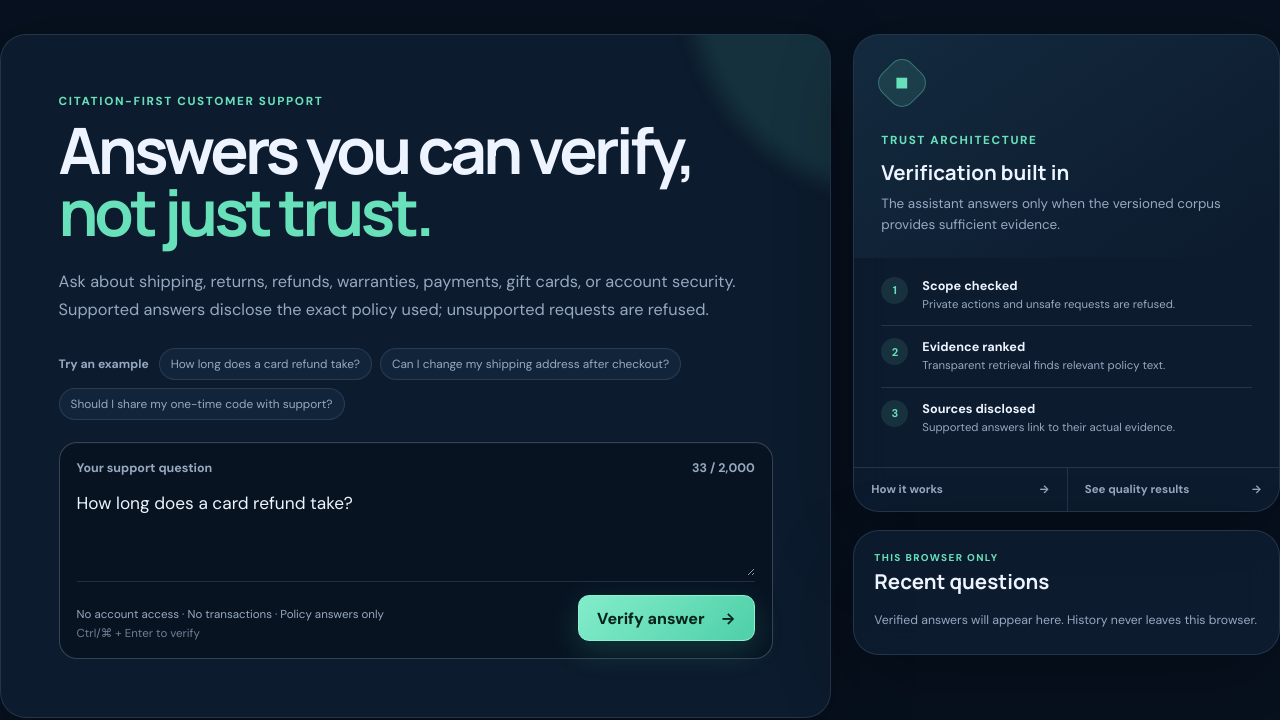
Test: AssistantPage › submits through the stream and preserves the browser evidence hooks
Click the button "Verify answer →": [666, 618] box x1=578 y1=596 x2=755 y2=642
(page scrolled)
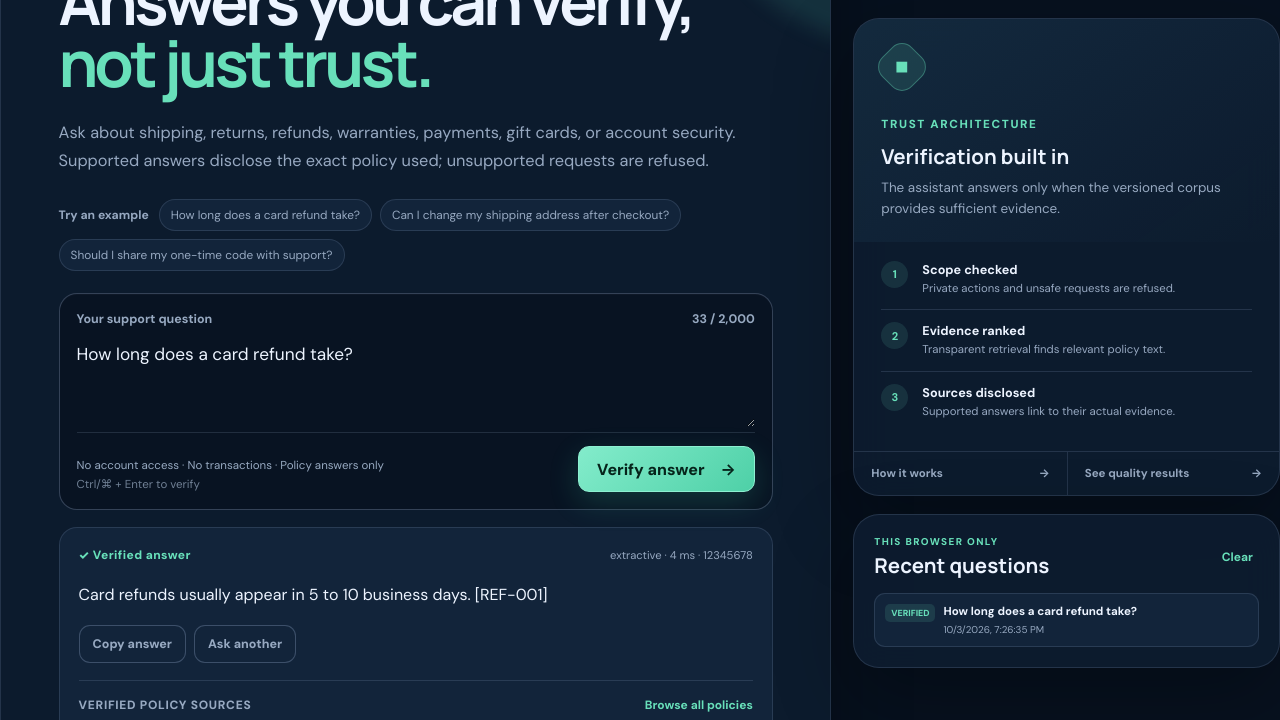
Result: the text "✓ Verified answer" is shown at x1=79 y1=548 x2=191 y2=564
Result: the text "5 to 10 business days" is shown at x1=79 y1=584 x2=548 y2=606
Result: the text "REF-001" is shown 2 times
